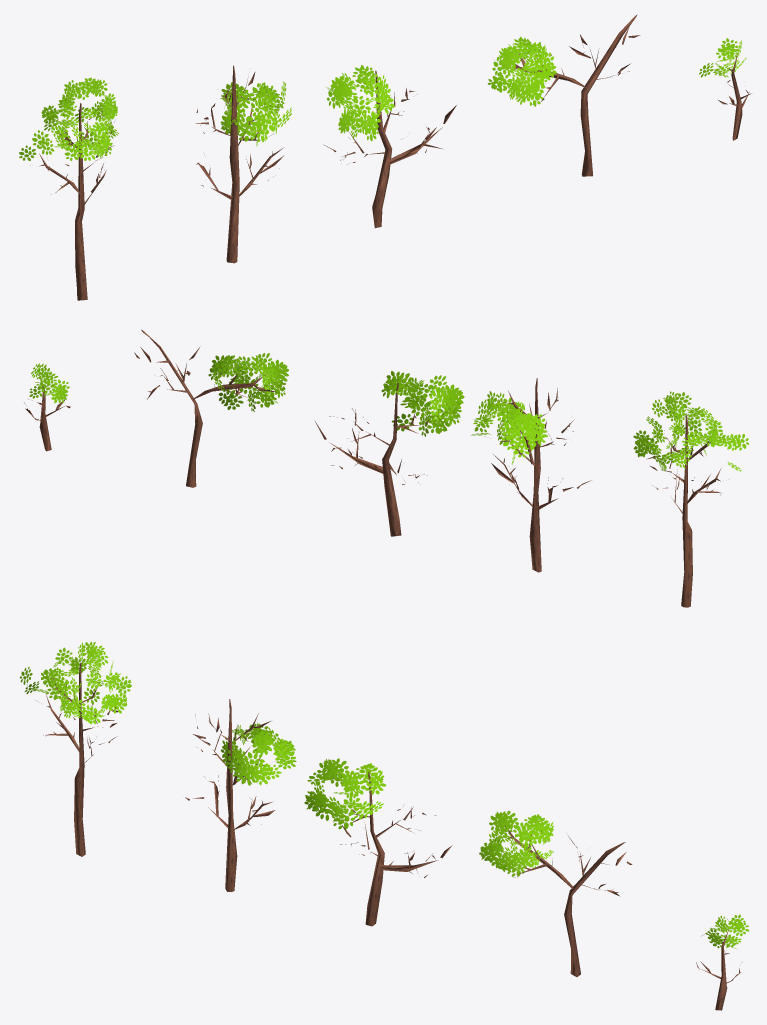
Rendered from tree_pack.glb.
3 renders of one model, top to bottom at view 1: azimuth 30°, elevation 25°; view 2: azimuth 150°, elevation 25°; view 3: azimuth 330°, elevation 25°, orthographic. The views are drawn at different scales.
Visible parts, largest first — view 1: NormalTree_1, NormalTree_2, NormalTree_4, NormalTree_3, NormalTree_5; view 2: NormalTree_1, NormalTree_3, NormalTree_2, NormalTree_4, NormalTree_5; view 3: NormalTree_1, NormalTree_3, NormalTree_2, NormalTree_4, NormalTree_5.
Part boxes in pixels (bbox=[...]): NormalTree_1: bbox=[19, 77, 118, 300]; NormalTree_2: bbox=[195, 65, 291, 263]; NormalTree_4: bbox=[488, 14, 640, 176]; NormalTree_3: bbox=[323, 65, 456, 228]; NormalTree_5: bbox=[699, 38, 750, 140]; NormalTree_1: bbox=[633, 391, 749, 607]; NormalTree_3: bbox=[314, 371, 464, 536]; NormalTree_2: bbox=[470, 378, 591, 572]; NormalTree_4: bbox=[134, 329, 288, 487]; NormalTree_5: bbox=[24, 363, 70, 451]; NormalTree_1: bbox=[19, 641, 131, 856]; NormalTree_3: bbox=[304, 758, 452, 926]; NormalTree_2: bbox=[185, 699, 296, 891]; NormalTree_4: bbox=[479, 811, 632, 976]; NormalTree_5: bbox=[696, 914, 749, 1010].
Bounding box in the file's own units: 24.03 × 6.87 × 2.74.
Materials: 2 (2 with a texture image).
